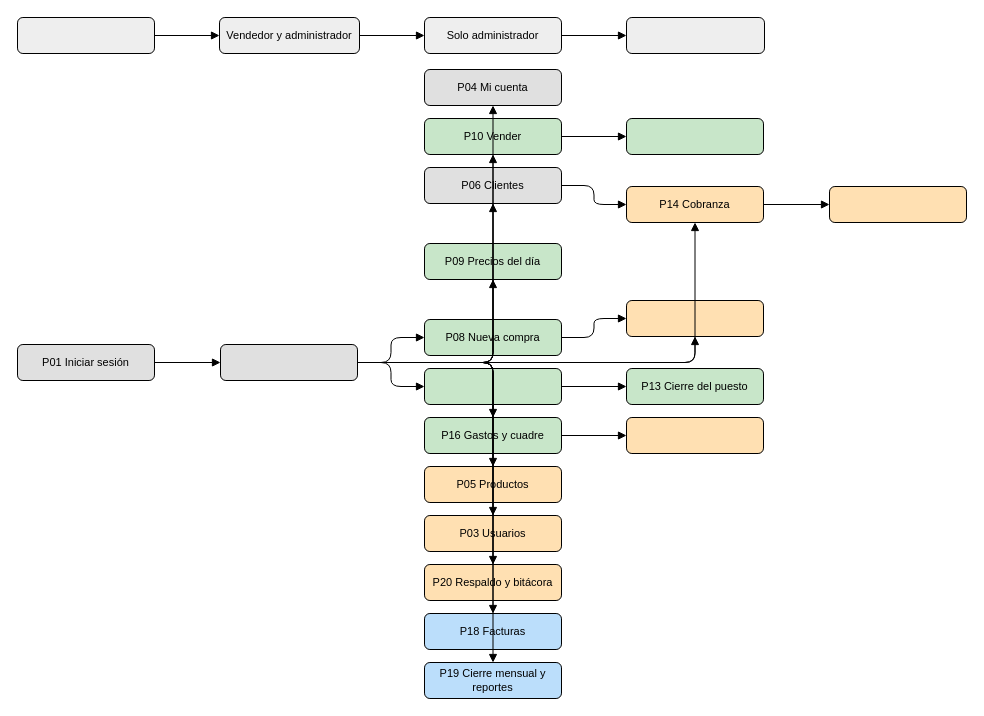
The diagram is 984 pixels wide and 716 high, and some of its shapes have lost their labels. Here are the shapes that lost their labels. From the top down, the box of each, then its label:
(16, 16, 154, 54): Los 3 roles
(626, 16, 764, 54): Contador y administrador
(626, 118, 764, 154): P11 Ventas del día
(828, 186, 966, 222): P15 Estado de cuenta
(626, 300, 764, 336): P07 Proveedores
(220, 344, 358, 380): P02 Inicio (panel)
(424, 368, 562, 404): P12 Saldo
(626, 416, 764, 454): P17 Ganancia
